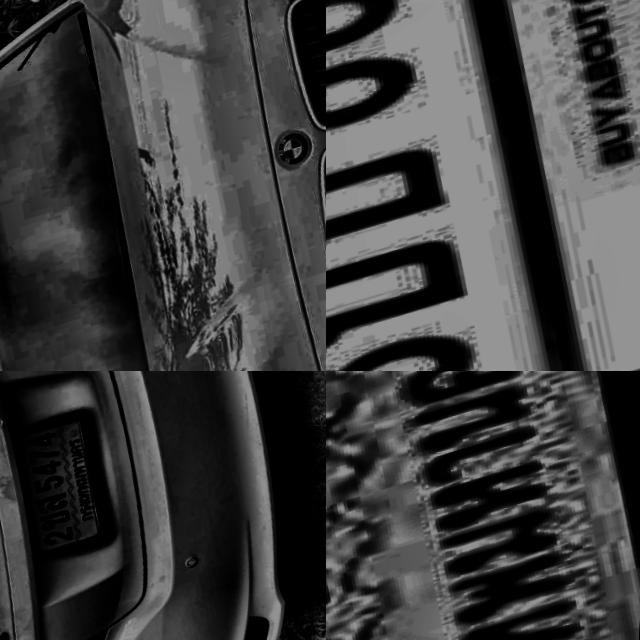license-plate: (326, 0, 640, 371), (326, 371, 640, 640), (3, 410, 121, 572)
